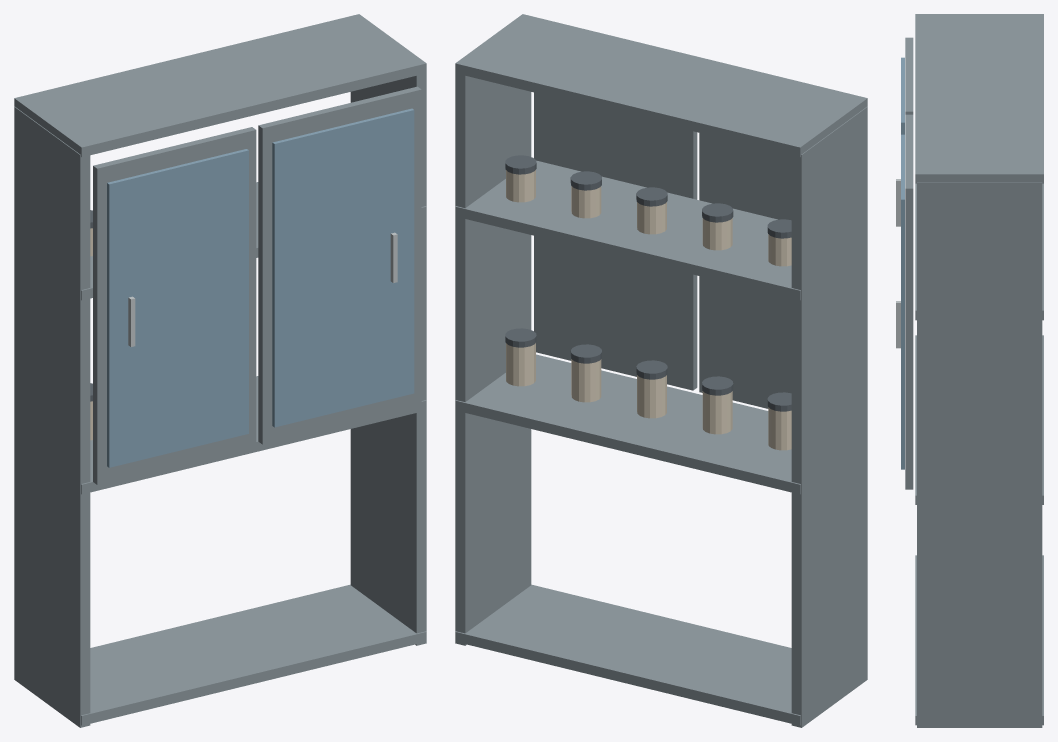
3 views of the same model, side by side, from view 1: azimuth 30°, elevation 25°; view 2: azimuth 150°, elevation 25°; view 3: azimuth 270°, elevation 25° (orthographic). The views are drawn at different scales.
Parts seen in each view (by area): view 1: TH-016__000__Tall cabinet end, TH-016__010__Door internal blue translucent glass, TH-016__007__Door internal blue translucent glass, TH-016__005__Cabinet shelf, TH-016__002__Cabinet shelf, TH-016__001__Tall cabinet end, TH-016__009__Glass door frame, TH-016__006__Glass door frame, TH-016__003__Cabinet shelf; view 2: TH-016__000__Tall cabinet end, TH-016__001__Tall cabinet end, TH-016__009__Glass door frame, TH-016__005__Cabinet shelf, TH-016__002__Cabinet shelf, TH-016__003__Cabinet shelf, TH-016__004__Cabinet shelf, TH-016__006__Glass door frame, TH-016__018__Stored materials jar, TH-016__014__Stored materials jar, TH-016__016__Stored materials jar, TH-016__020__Stored materials jar (+6 smaller); view 3: TH-016__001__Tall cabinet end, TH-016__005__Cabinet shelf, TH-016__009__Glass door frame, TH-016__010__Door internal blue translucent glass, TH-016__006__Glass door frame, TH-016__002__Cabinet shelf, TH-016__003__Cabinet shelf, TH-016__004__Cabinet shelf, TH-016__007__Door internal blue translucent glass.
Boxes of the visible parts, x1,y1,x2,y2 form: TH-016__000__Tall cabinet end: (14, 106, 90, 727); TH-016__010__Door internal blue translucent glass: (272, 108, 414, 427); TH-016__007__Door internal blue translucent glass: (107, 149, 248, 467); TH-016__005__Cabinet shelf: (14, 14, 426, 157); TH-016__002__Cabinet shelf: (81, 584, 426, 725); TH-016__001__Tall cabinet end: (350, 73, 426, 645); TH-016__009__Glass door frame: (258, 86, 421, 444); TH-016__006__Glass door frame: (93, 127, 256, 484); TH-016__003__Cabinet shelf: (81, 376, 426, 494); TH-016__000__Tall cabinet end: (791, 106, 867, 727); TH-016__001__Tall cabinet end: (455, 73, 531, 645); TH-016__009__Glass door frame: (534, 92, 697, 390); TH-016__005__Cabinet shelf: (455, 14, 867, 157); TH-016__002__Cabinet shelf: (455, 584, 800, 725); TH-016__003__Cabinet shelf: (455, 354, 800, 494); TH-016__004__Cabinet shelf: (455, 160, 800, 300); TH-016__006__Glass door frame: (699, 133, 791, 408); TH-016__018__Stored materials jar: (571, 359, 601, 402); TH-016__014__Stored materials jar: (702, 391, 732, 434); TH-016__016__Stored materials jar: (637, 375, 666, 418); TH-016__020__Stored materials jar: (506, 343, 535, 386); TH-016__001__Tall cabinet end: (917, 182, 1042, 727); TH-016__005__Cabinet shelf: (915, 14, 1043, 183); TH-016__009__Glass door frame: (905, 114, 913, 489); TH-016__010__Door internal blue translucent glass: (901, 134, 904, 469); TH-016__006__Glass door frame: (905, 37, 913, 114); TH-016__002__Cabinet shelf: (915, 555, 1043, 725); TH-016__003__Cabinet shelf: (915, 335, 1043, 504); TH-016__004__Cabinet shelf: (915, 183, 1043, 320); TH-016__007__Door internal blue translucent glass: (901, 57, 904, 134).
Size of the model in its own units: 1.22 by 1.95 by 0.471.
